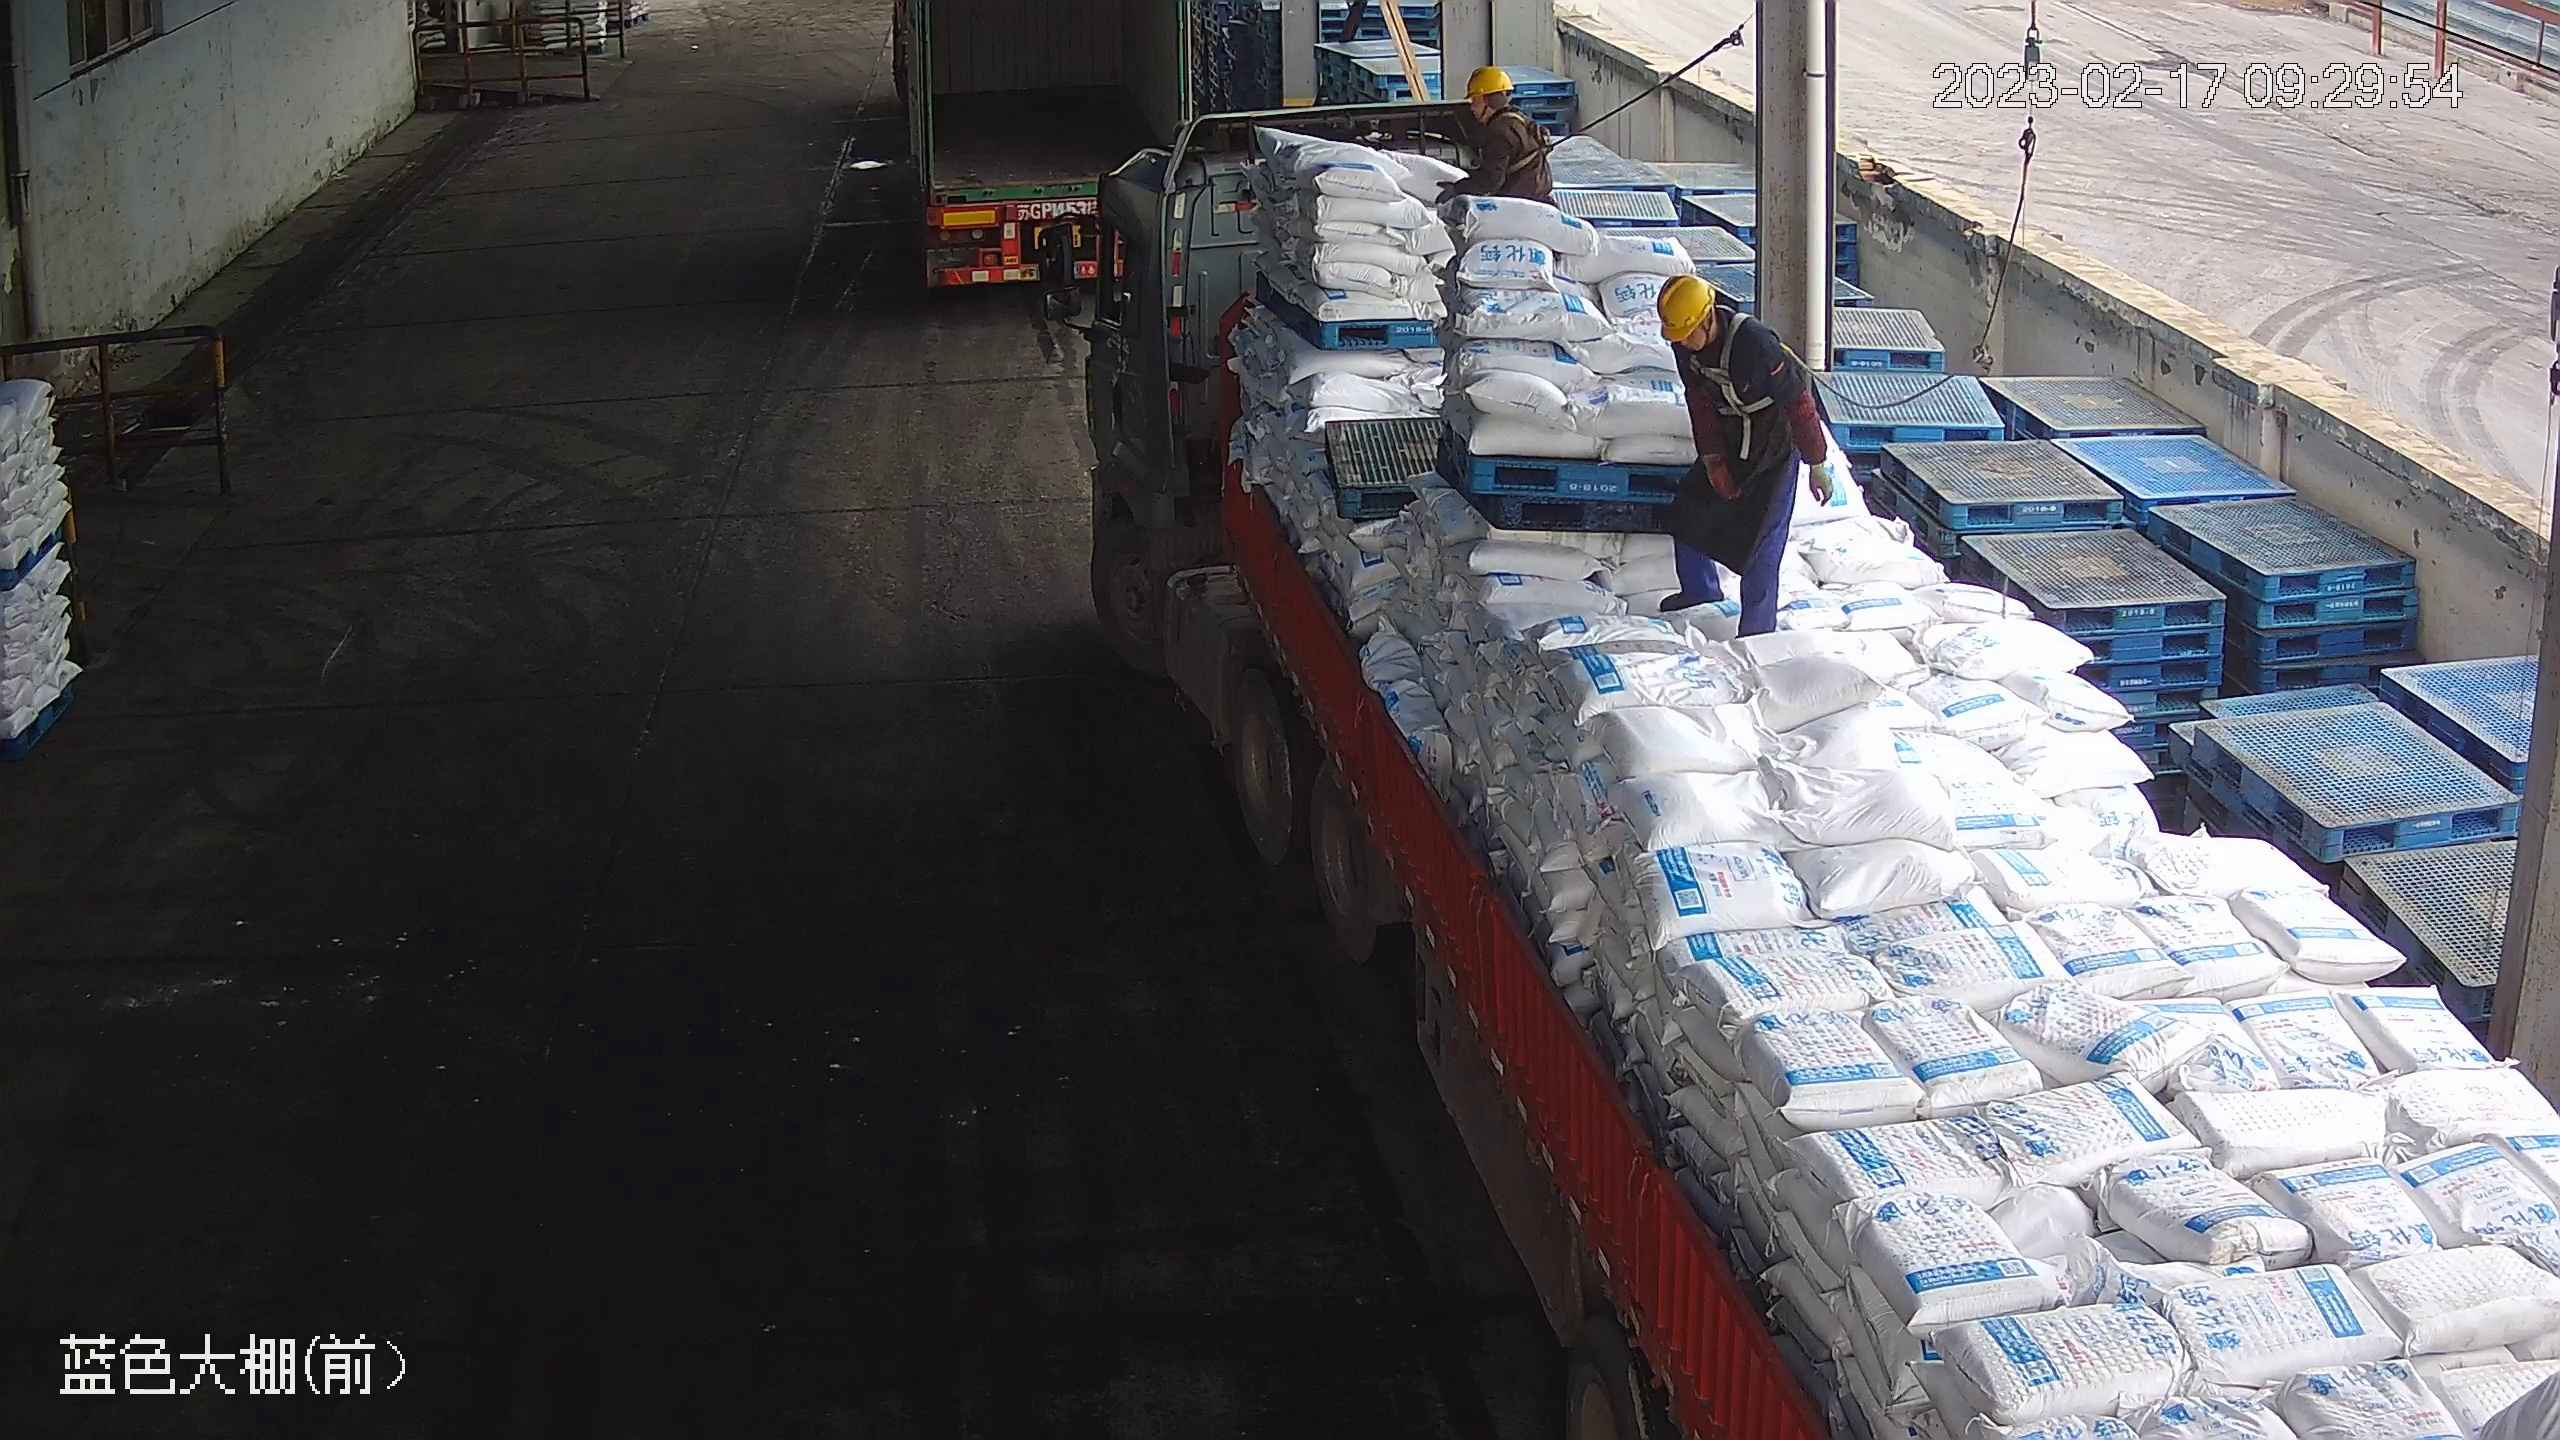belt: (1684, 313, 1806, 422), (1496, 110, 1567, 169)
head: (1652, 269, 1771, 393), (1432, 69, 1551, 181)
helmet: (1652, 279, 1722, 342), (1464, 67, 1513, 101)
people: (1651, 274, 1835, 637)
truck: (1035, 96, 2560, 1440), (884, 1, 1201, 305)
